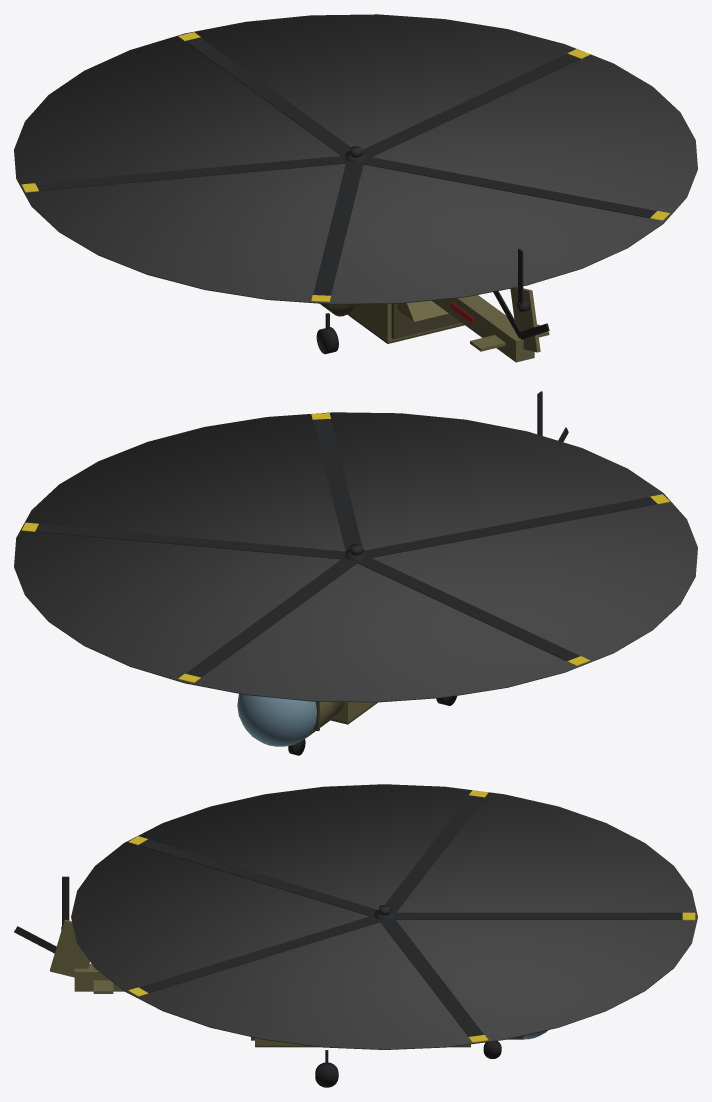
The model's file is TransportHeli_Red.fbx.
3 views of the same model, one above another, from view 1: azimuth 30°, elevation 25°; view 2: azimuth 150°, elevation 25°; view 3: azimuth 270°, elevation 25° (orthographic). The views are drawn at different scales.
Visible parts, largest first — view 1: RotorDisc, RotorBlade4, RotorBlade2, RotorBlade1, RotorBlade0, RotorBlade3, TailBoom, Cabin, Clamshell, Fin, BoomTaper; view 2: RotorDisc, NoseDome, RotorBlade1, RotorBlade3, RotorBlade4, RotorBlade0, RotorBlade2; view 3: RotorDisc, RotorBlade0, RotorBlade2, RotorBlade3, RotorBlade1, RotorBlade4, Fin, TailBoom, MainGearR.
Boxes of the visible parts, left/top/right/bottom form: RotorDisc: left=14, top=14, right=697, bottom=304; RotorBlade4: left=35, top=156, right=346, bottom=191; RotorBlade2: left=363, top=156, right=656, bottom=218; RotorBlade1: left=362, top=53, right=580, bottom=157; RotorBlade0: left=185, top=37, right=350, bottom=157; RotorBlade3: left=313, top=161, right=363, bottom=295; TailBoom: left=432, top=295, right=534, bottom=362; Cabin: left=349, top=303, right=462, bottom=342; Clamshell: left=391, top=303, right=461, bottom=339; Fin: left=510, top=287, right=540, bottom=352; BoomTaper: left=397, top=300, right=448, bottom=321; RotorDisc: left=14, top=412, right=697, bottom=702; NoseDome: left=237, top=694, right=316, bottom=746; RotorBlade1: left=35, top=524, right=345, bottom=559; RotorBlade3: left=365, top=497, right=657, bottom=558; RotorBlade4: left=357, top=557, right=580, bottom=661; RotorBlade0: left=186, top=557, right=359, bottom=677; RotorBlade2: left=313, top=419, right=362, bottom=551; RotorDisc: left=71, top=784, right=697, bottom=1049; RotorBlade0: left=394, top=912, right=682, bottom=919; RotorBlade2: left=139, top=915, right=382, bottom=993; RotorBlade3: left=139, top=839, right=377, bottom=916; RotorBlade1: left=379, top=918, right=483, bottom=1036; RotorBlade4: left=385, top=795, right=484, bottom=913; Fin: left=50, top=919, right=89, bottom=977; TailBoom: left=74, top=963, right=123, bottom=991; MainGearR: left=315, top=1062, right=338, bottom=1087.
Size of the model in its own units: 1740 by 1899 by 544.
